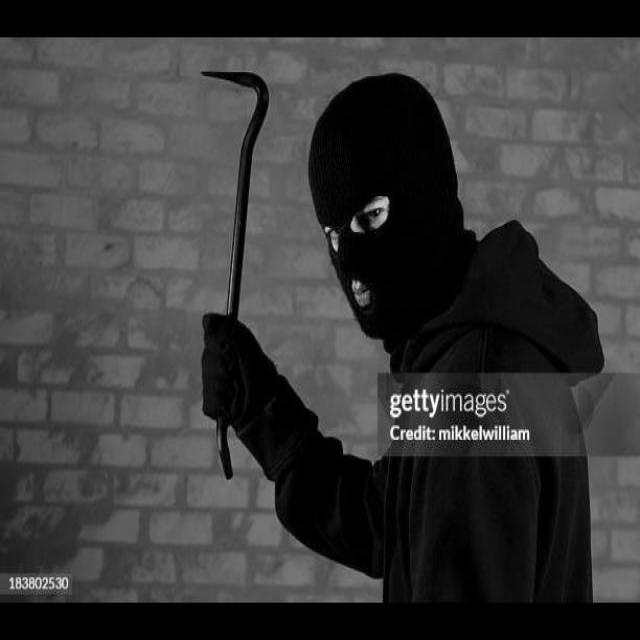6_pasamontana: (307, 71, 479, 340)
